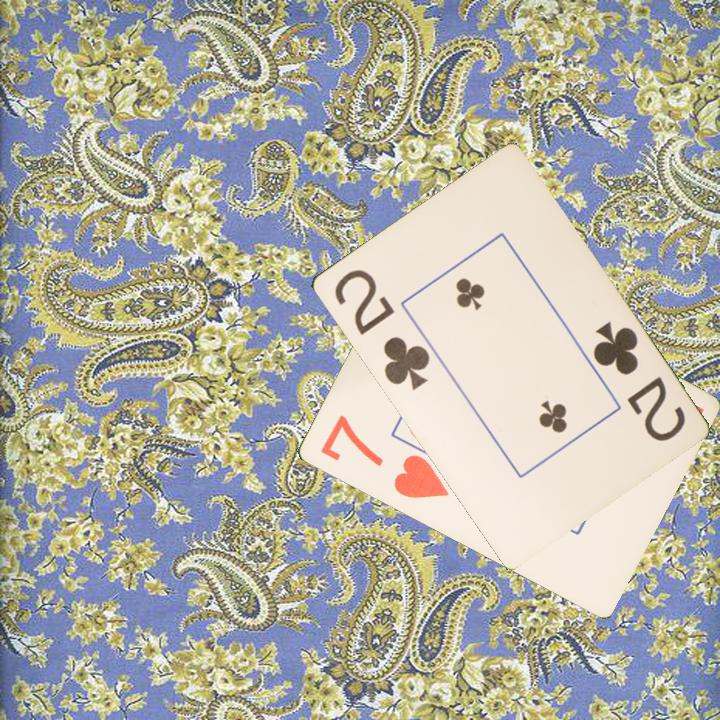2c: (330, 265, 433, 393), (588, 317, 688, 445)
7h: (316, 411, 452, 502)
